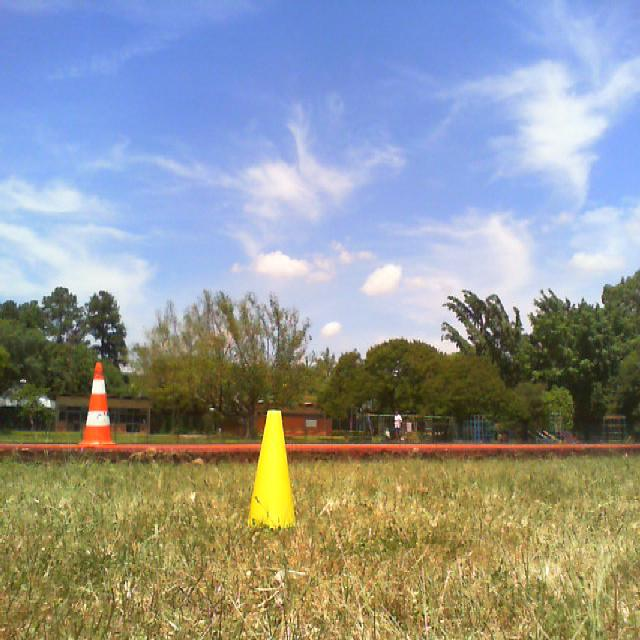cone: (246, 409, 296, 528), (78, 363, 112, 445)
